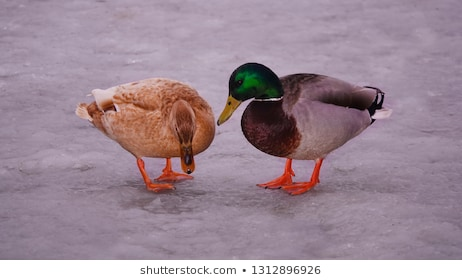duck: (212, 52, 402, 207), (57, 67, 217, 201)
